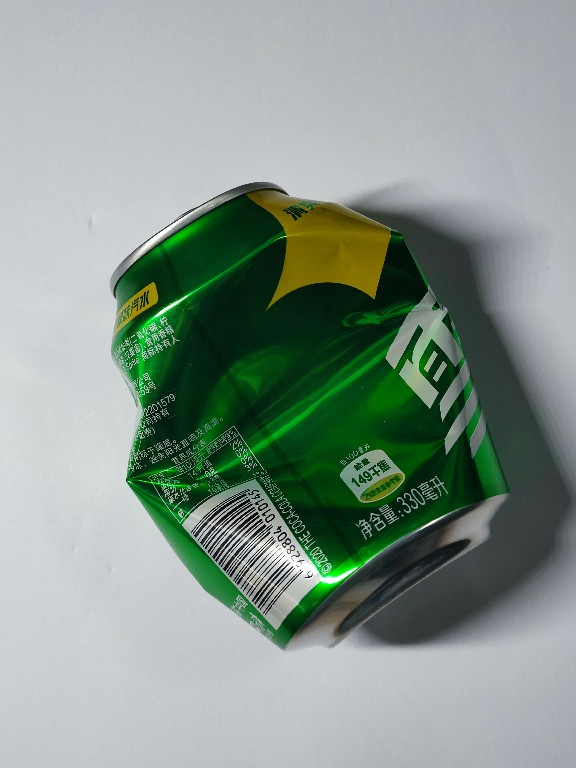can: (106, 178, 515, 656)
